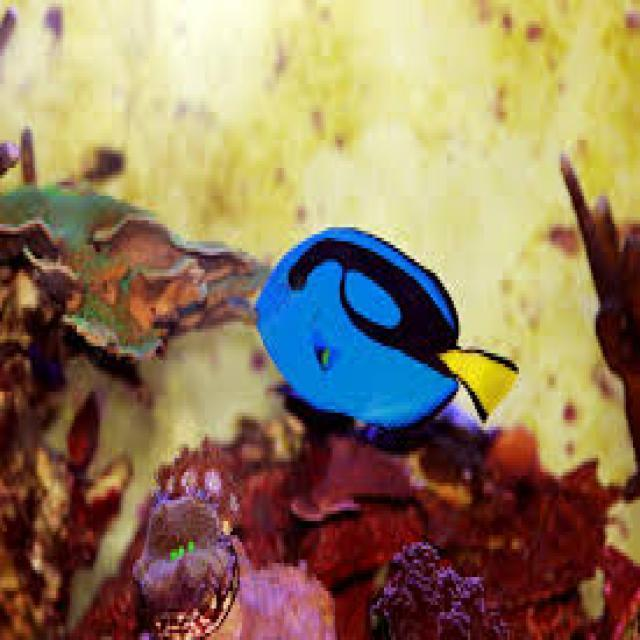TangFish: (255, 223, 518, 436)
